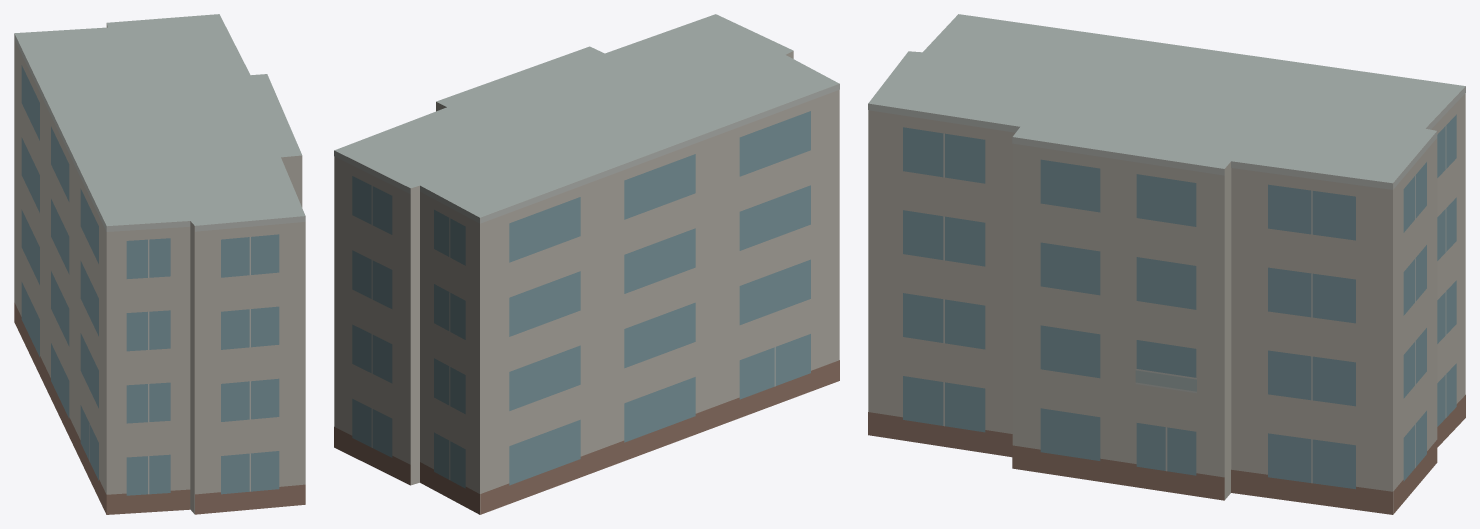
File: survey-upis-32917236.glb
3 views of the same model, side by side, from view 1: azimuth 30°, elevation 25°; view 2: azimuth 150°, elevation 25°; view 3: azimuth 270°, elevation 25° (orthographic). The views are drawn at different scales.
Visible parts, largest first — view 1: survey-upis-32917236.tmp; view 2: survey-upis-32917236.tmp; view 3: survey-upis-32917236.tmp.
Boxes of the visible parts, x1,y1,x2,y2 form: survey-upis-32917236.tmp: (14, 14, 305, 514); survey-upis-32917236.tmp: (334, 14, 839, 514); survey-upis-32917236.tmp: (868, 14, 1465, 514).
Size of the model in its own units: 13.37 by 12.2 by 19.94.
